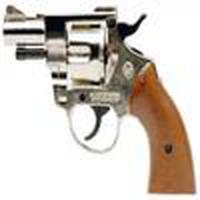gun: (4, 9, 200, 193)
